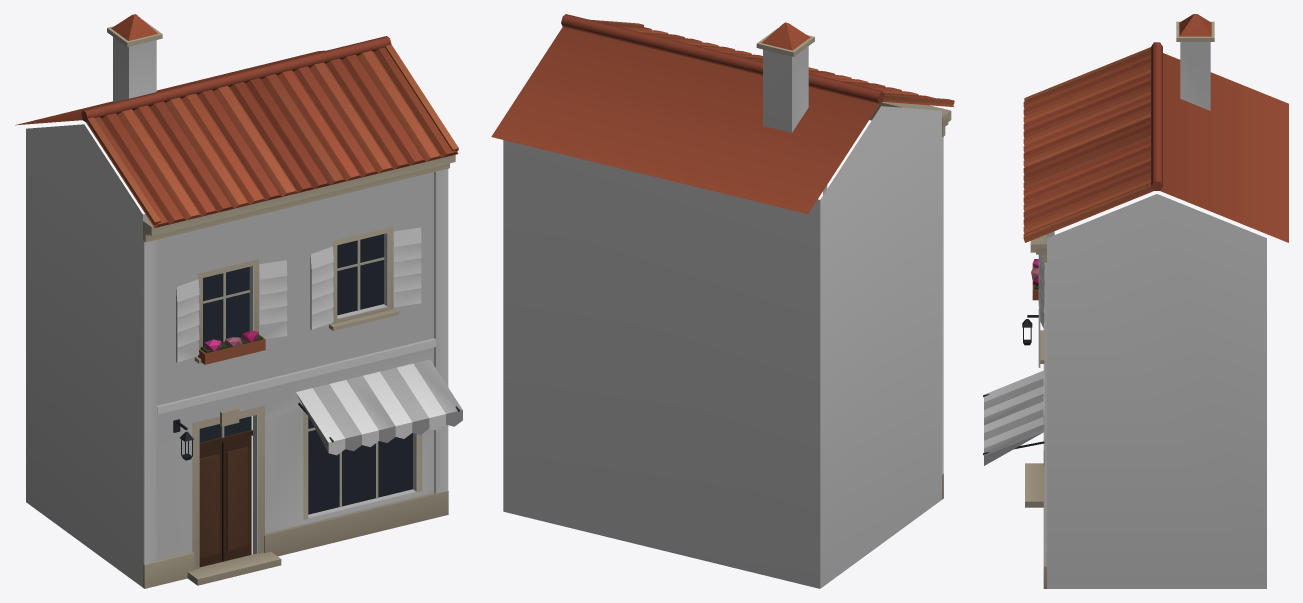
Rendered from plaza-house-c.glb.
3 views of the same model, side by side, from view 1: azimuth 30°, elevation 25°; view 2: azimuth 150°, elevation 25°; view 3: azimuth 270°, elevation 25° (orthographic). The views are drawn at different scales.
Visible parts, largest first — view 1: stucco, trim, awning, shutters; view 2: stucco, trim; view 3: stucco, trim, awning, shutters.
Boxes of the visible parts, box(x1,y1,x2,y2) form: stucco: box(26, 37, 448, 587); trim: box(15, 14, 459, 588); awning: box(296, 359, 462, 455); shutters: box(176, 227, 421, 362); stucco: box(503, 46, 943, 588); trim: box(491, 14, 954, 499); stucco: box(1043, 42, 1266, 588); trim: box(983, 14, 1288, 588); awning: box(984, 370, 1044, 465); shutters: box(1038, 254, 1044, 367).
Size of the model in its own units: 6 by 9.38 by 5.56.
